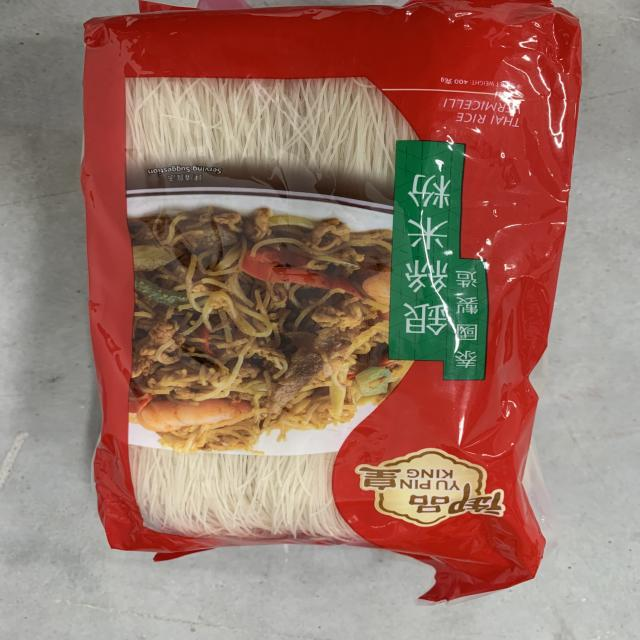object_name: (81, 22, 534, 559)
